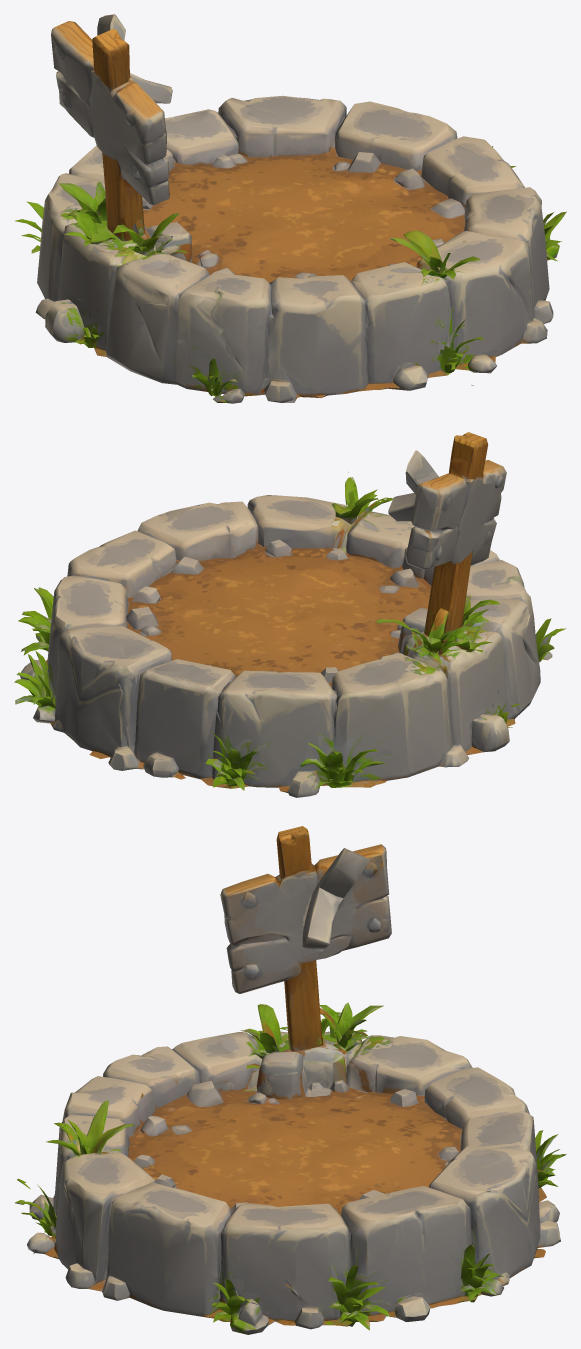
The model's file is plot.glb.
3 renders of one model, top to bottom at view 1: azimuth 30°, elevation 25°; view 2: azimuth 150°, elevation 25°; view 3: azimuth 270°, elevation 25°, orthographic. The views are drawn at different scales.
Visible parts, largest first — view 1: Body; view 2: Body; view 3: Body.
Boxes of the visible parts, box(x1,y1,x2,y2) form: Body: box(15, 14, 566, 403); Body: box(14, 432, 566, 797); Body: box(14, 826, 566, 1334).
Bounding box in the file's own units: 3.6 × 2.24 × 3.6.
Materials: 1 (1 with a texture image).
